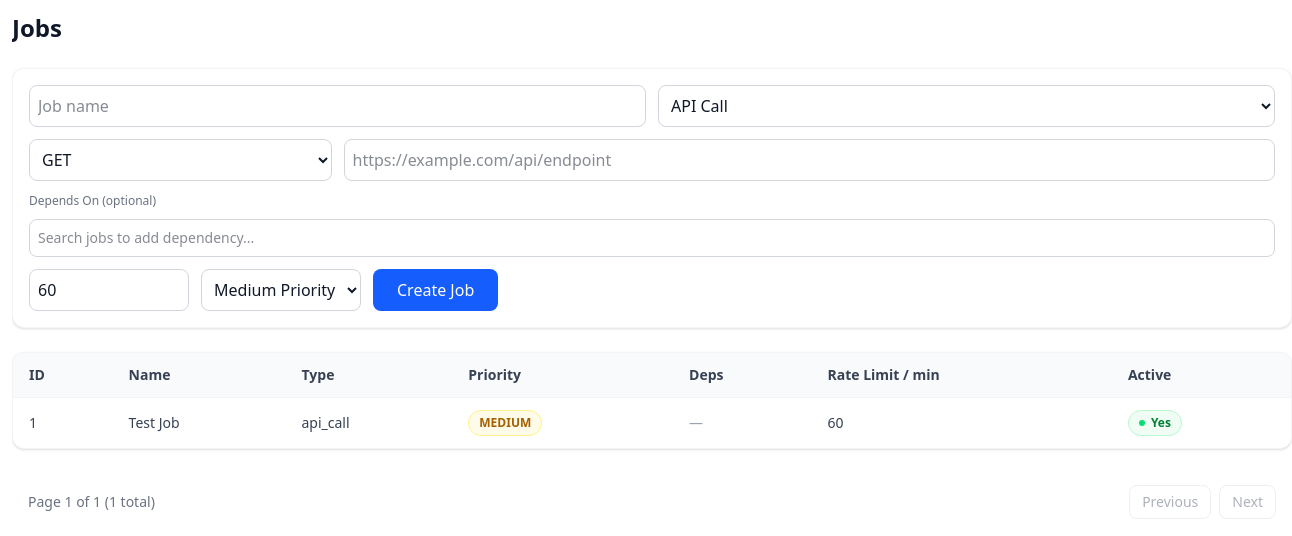
Scenario: Jobs Page › shows math field when selected
Select "Math" in the 1st dropdown at [966, 106], box left=658, top=85, right=1275, bottom=127
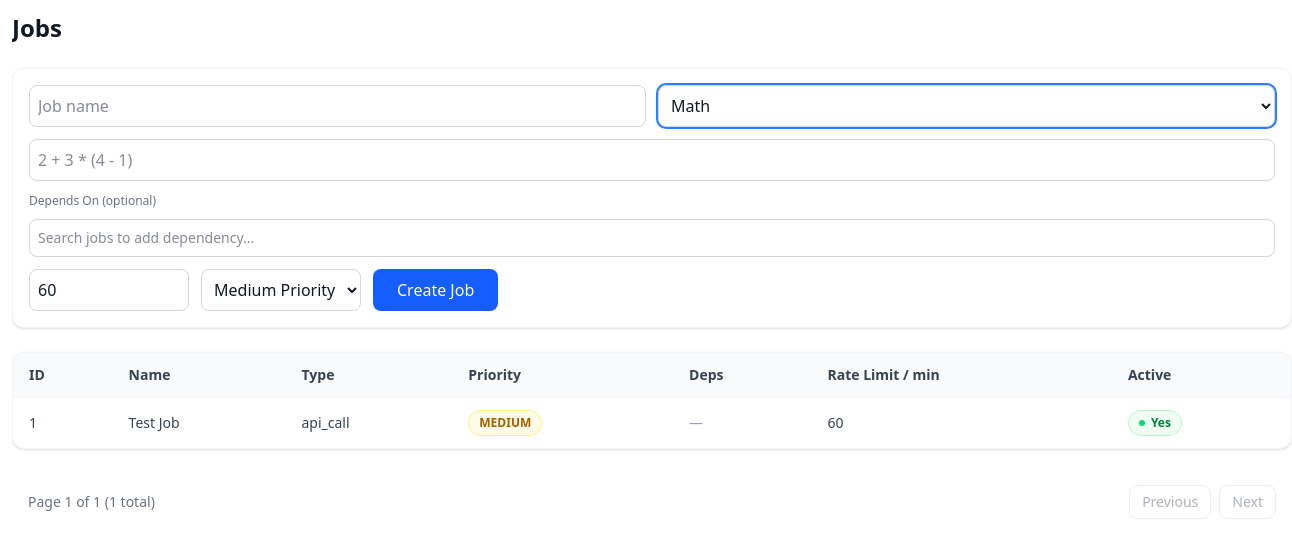
Result: the field with placeholder "2 + 3 * (4 - 1)" is shown at left=29, top=139, right=1275, bottom=181
